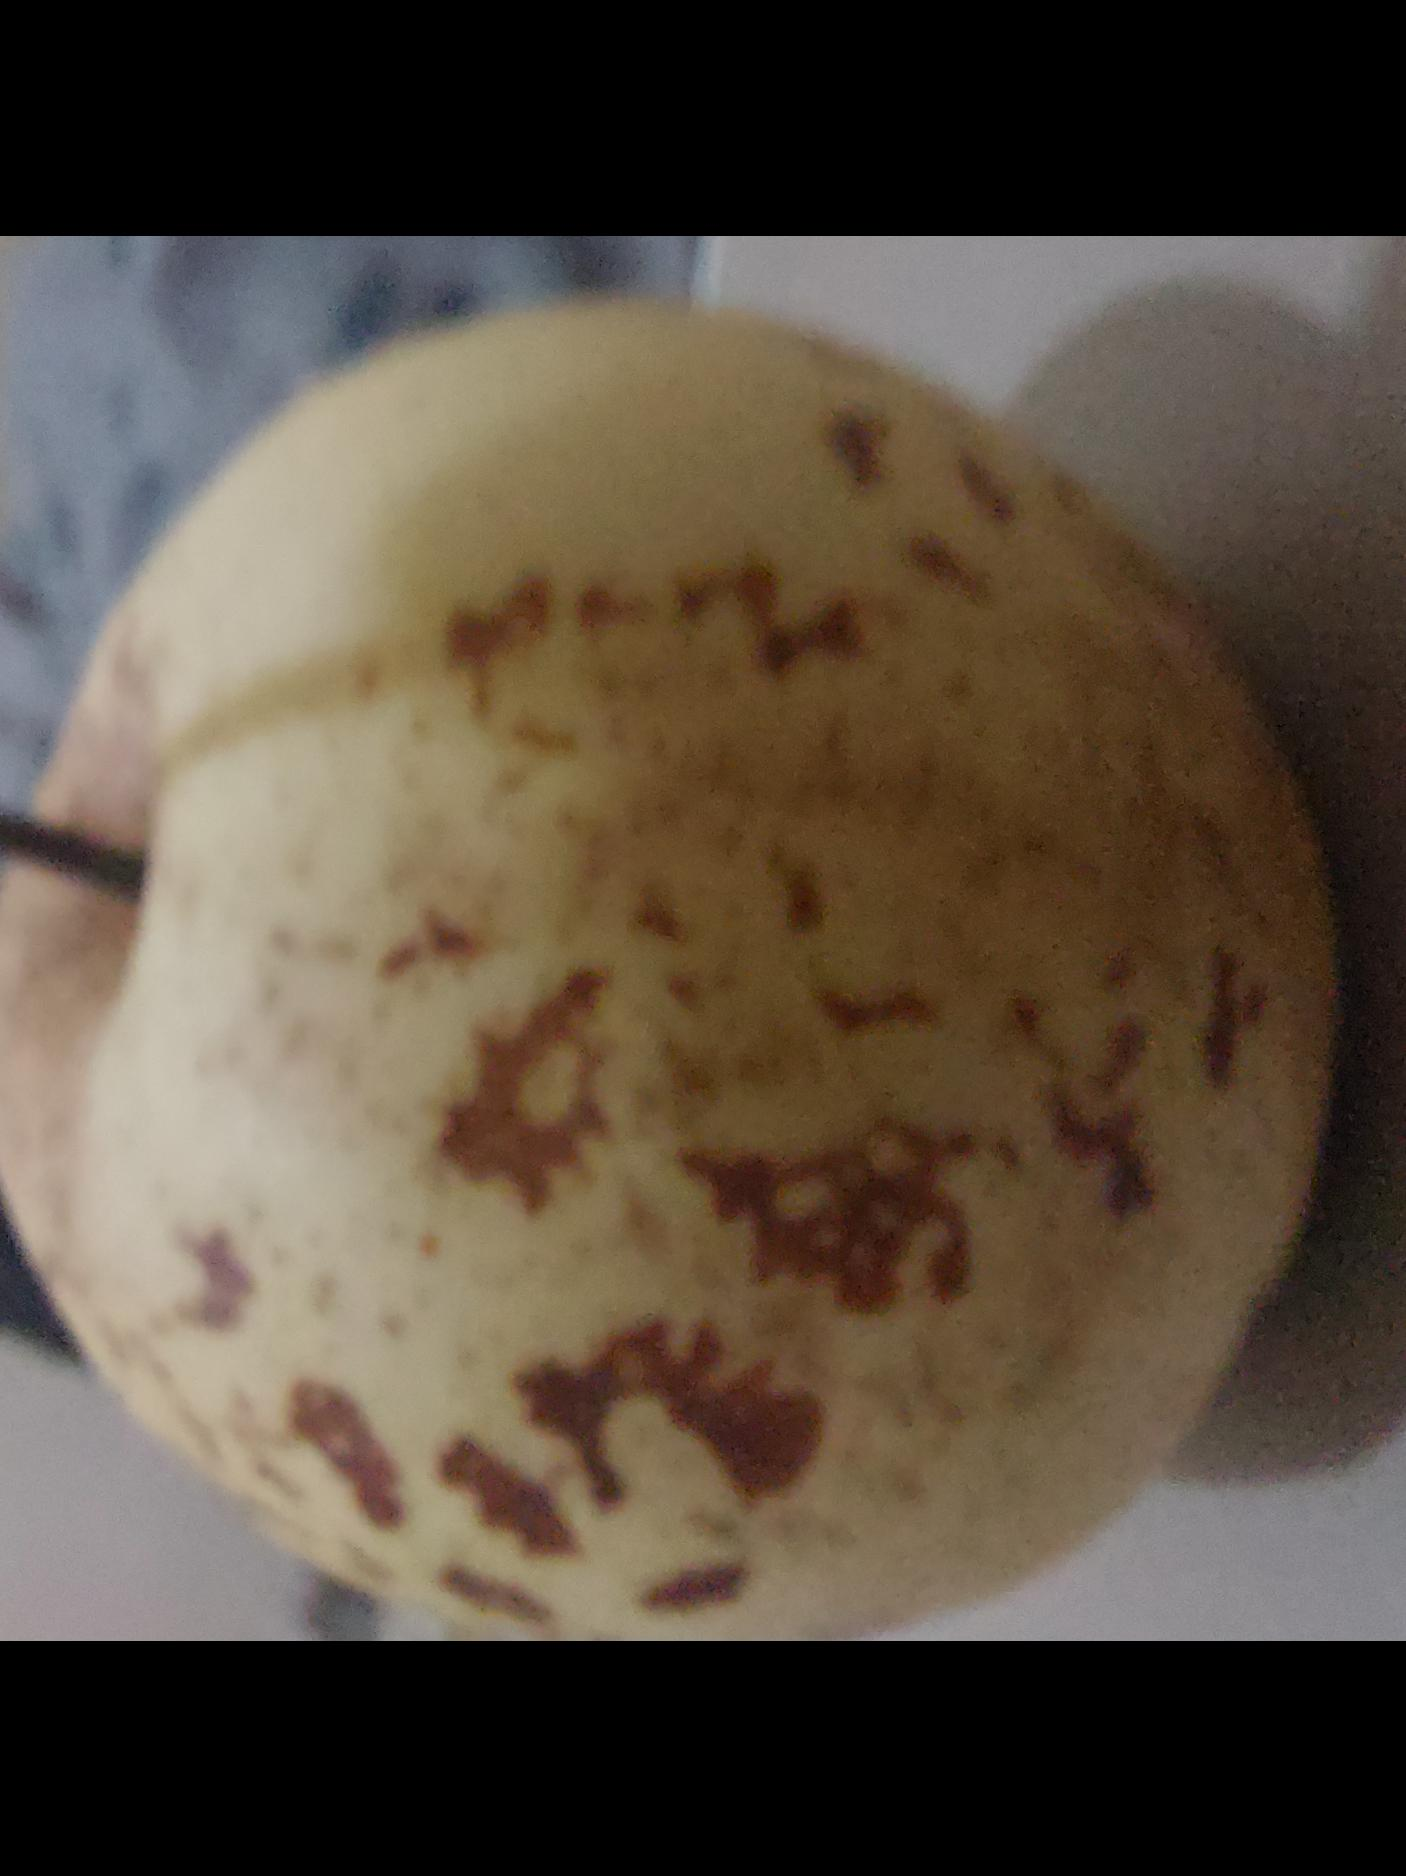Bad Pear: (0, 257, 1406, 1641)
